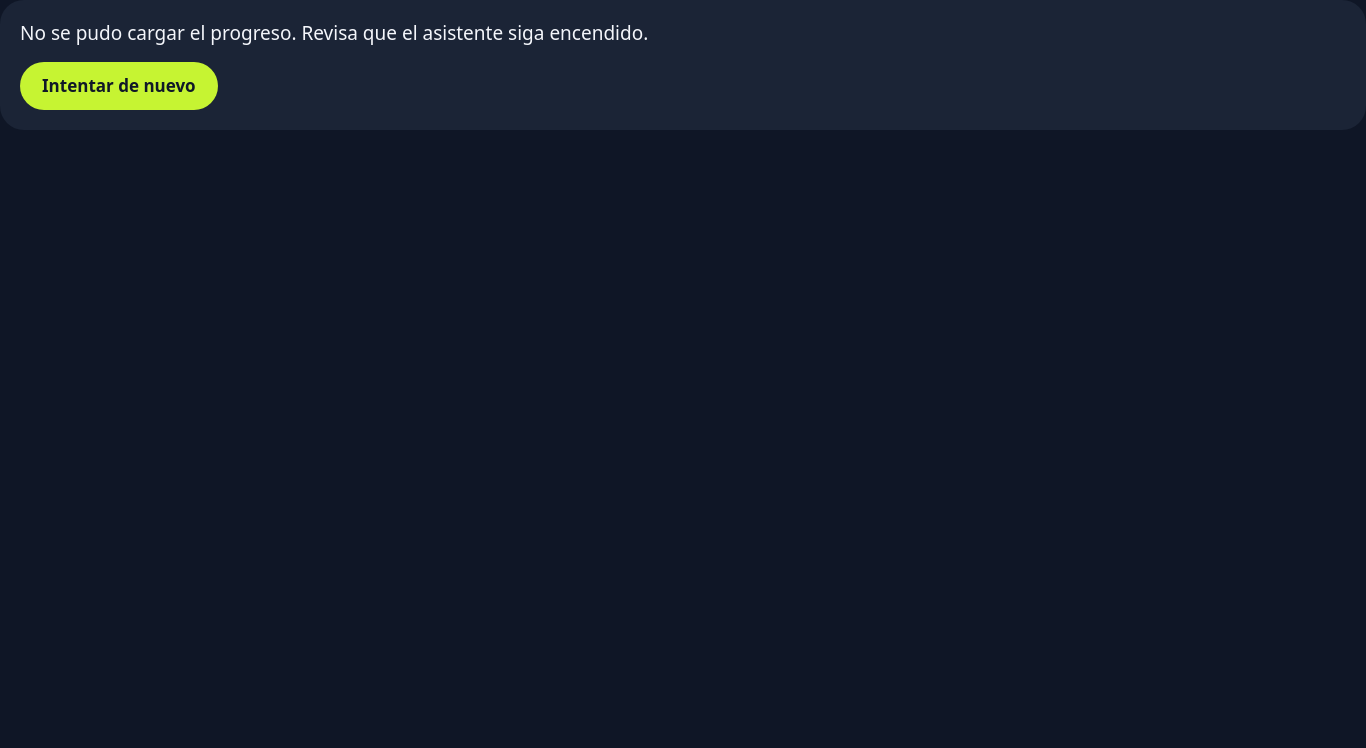
it: ProgressTab negative › a lost connection shows a friendly message and a retry that works
Expected: the message shows "No se pudo cargar el progreso. Revisa que el asistente siga encendido.", [20, 20, 648, 46]
Step 1. Click the button "Intentar de nuevo" → (119, 86), box [20, 62, 218, 110]
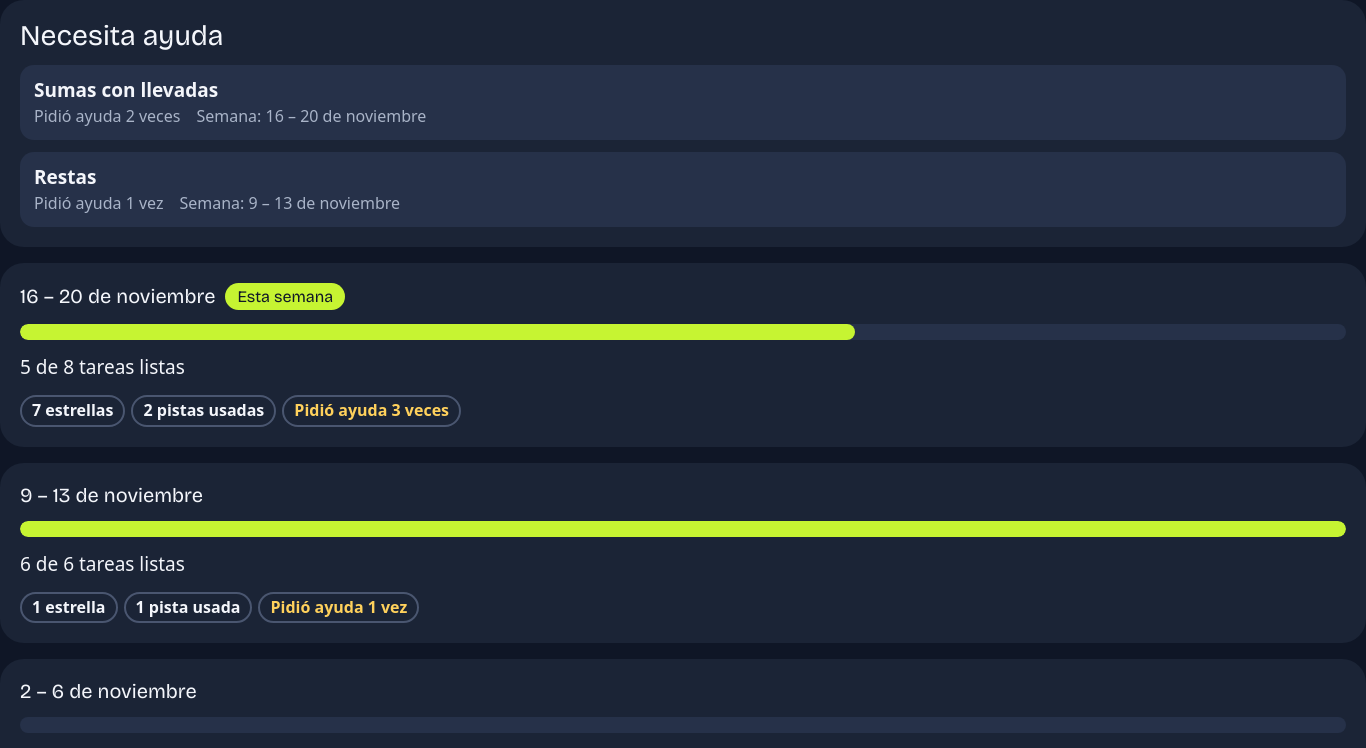
Now the heading "16 – 20 de noviembre Esta semana" is shown, box [20, 283, 345, 310]
